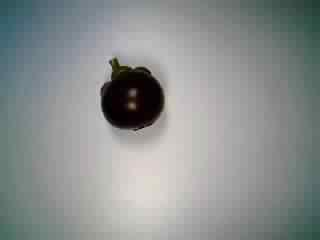mangosteen: (92, 55, 171, 132)
